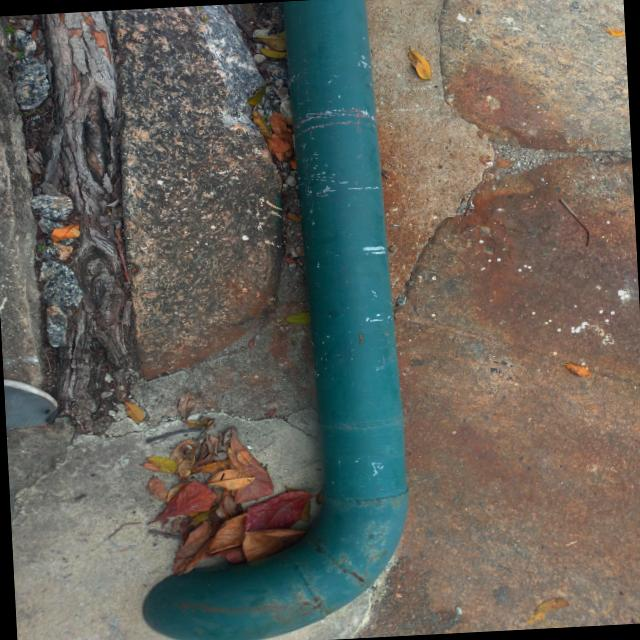gas: (138, 0, 408, 640)
